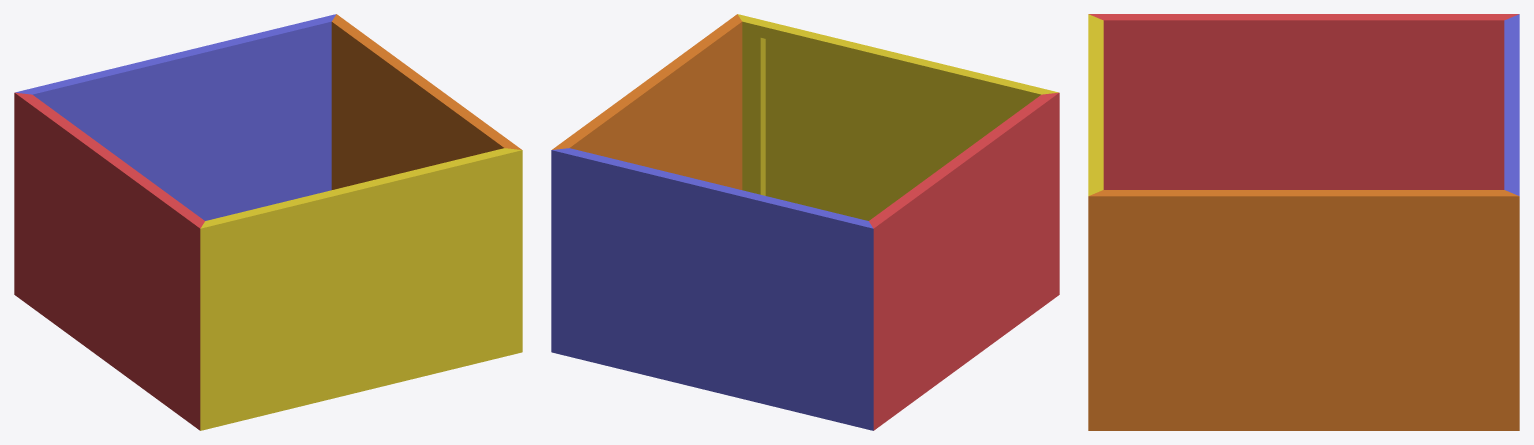
File: Ballroom.glb
3 views of the same model, side by side, from view 1: azimuth 30°, elevation 25°; view 2: azimuth 150°, elevation 25°; view 3: azimuth 270°, elevation 25° (orthographic). The views are drawn at different scales.
Visible parts, largest first — view 1: Wall03, Wall02, Wall01, Wall00; view 2: Wall01, Wall02, Wall03, Wall00; view 3: Wall00, Wall02, Wall03, Wall01.
Boxes of the visible parts, left/top/right/bottom form: Wall03: left=200, top=148, right=522, bottom=430; Wall02: left=14, top=92, right=204, bottom=430; Wall01: left=15, top=14, right=336, bottom=220; Wall00: left=331, top=14, right=521, bottom=189; Wall01: left=551, top=148, right=873, bottom=430; Wall02: left=869, top=92, right=1059, bottom=430; Wall03: left=737, top=14, right=1058, bottom=220; Wall00: left=552, top=14, right=742, bottom=189; Wall00: left=1088, top=190, right=1519, bottom=430; Wall02: left=1089, top=14, right=1518, bottom=189; Wall03: left=1088, top=14, right=1103, bottom=195; Wall01: left=1504, top=14, right=1519, bottom=195.
Bounding box in the file's own units: 20 × 12 × 20.
